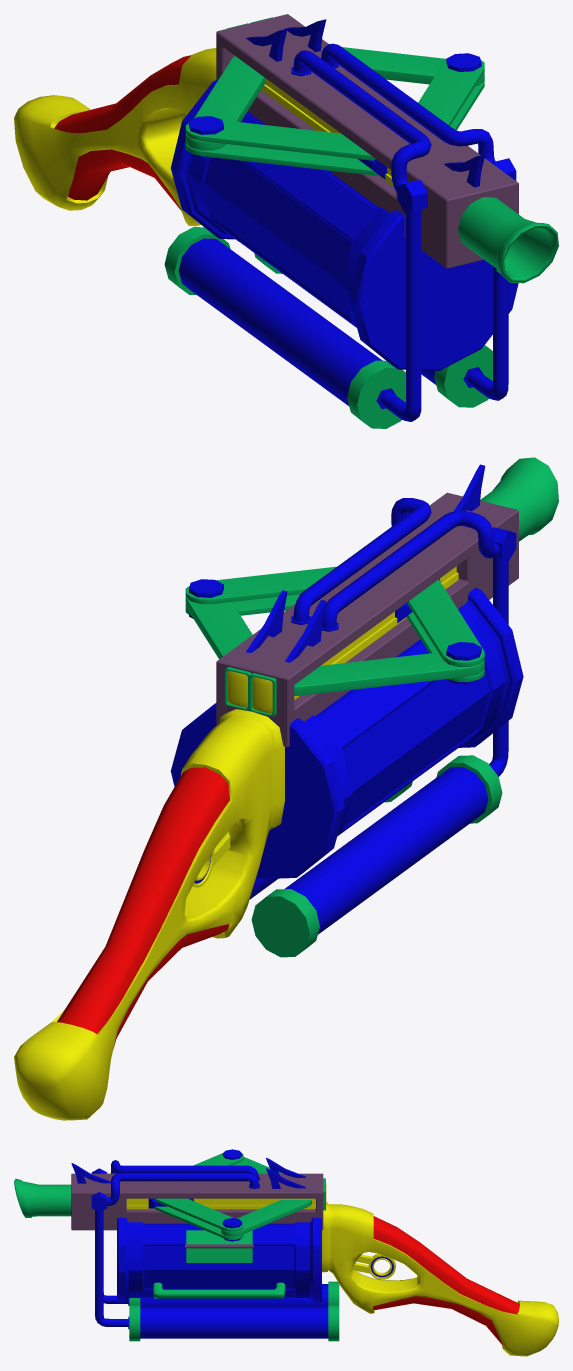
File: arrowCaster_export.fbx
3 renders of one model, top to bottom at view 1: azimuth 30°, elevation 25°; view 2: azimuth 150°, elevation 25°; view 3: azimuth 270°, elevation 25°, orthographic. The views are drawn at different scales.
Parts seen in each view (by area): view 1: pPlane13; view 2: pPlane13; view 3: pPlane13.
Part boxes in pixels (<box>): pPlane13: <box>14,14,558,428</box>; pPlane13: <box>14,457,558,1120</box>; pPlane13: <box>14,1149,558,1356</box>.
Size of the model in its own units: 11.62 by 13.22 by 34.28.
